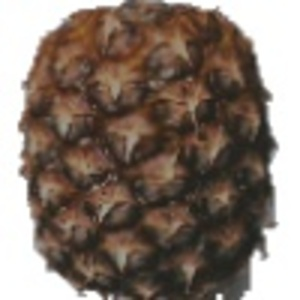abacaxi: (11, 2, 283, 292)
